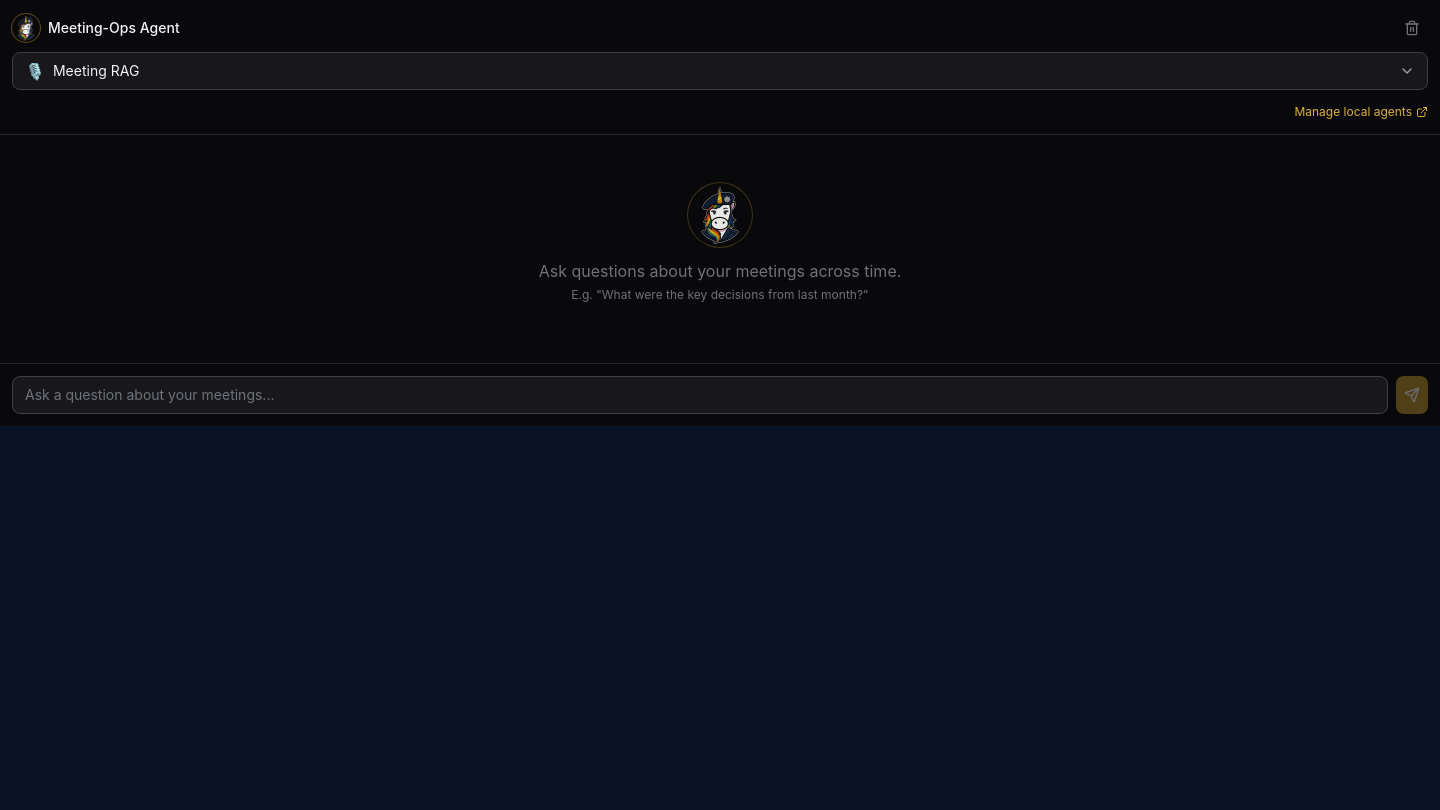
Test case: RAGChat › renders a confirmation card and applies the action inline
Type "Rename the session." into the field with placeholder "Ask a question about your meetings..." at (700, 395), box [12,376,1388,414]
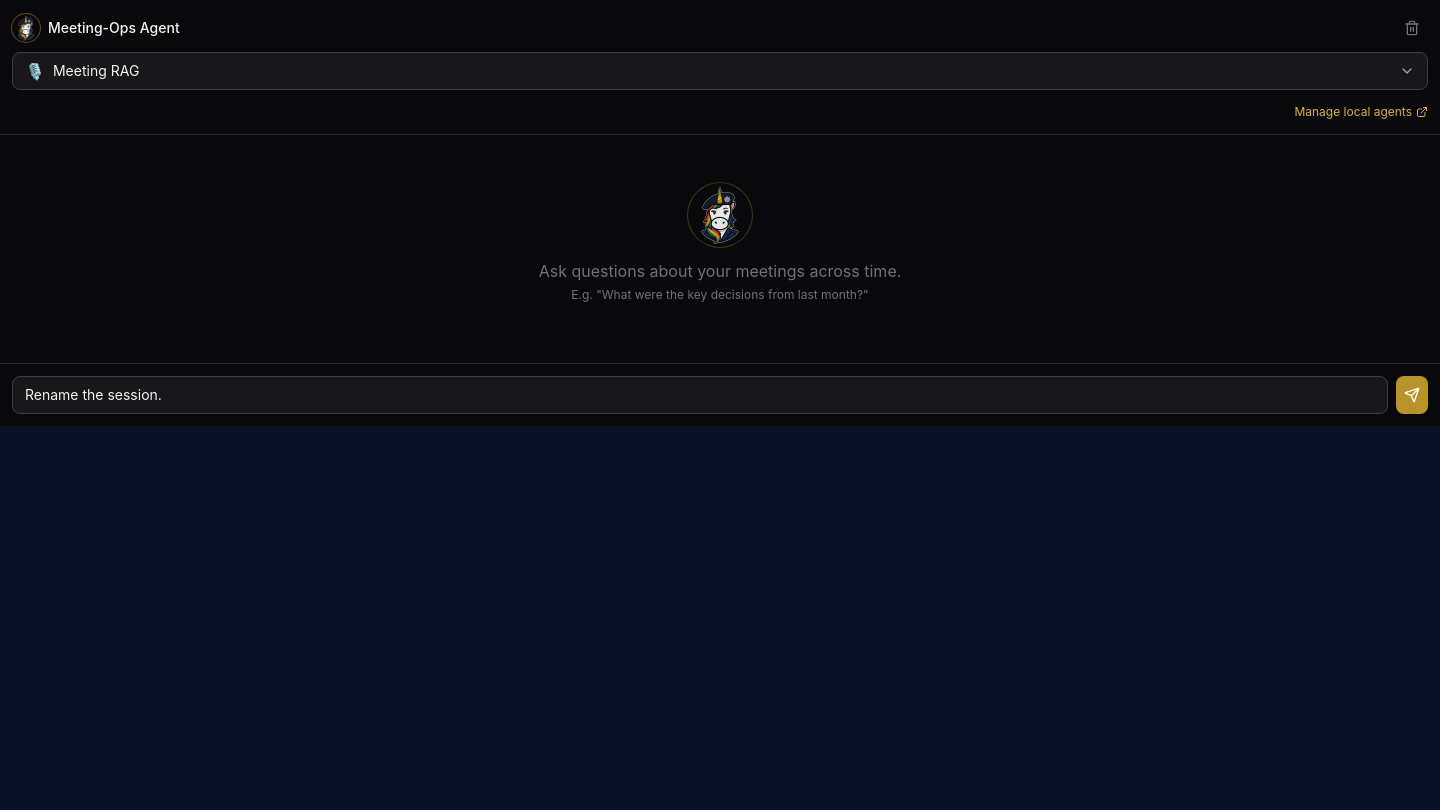
Press Enter in the field with placeholder "Ask a question about your meetings...", box [12,376,1388,414]
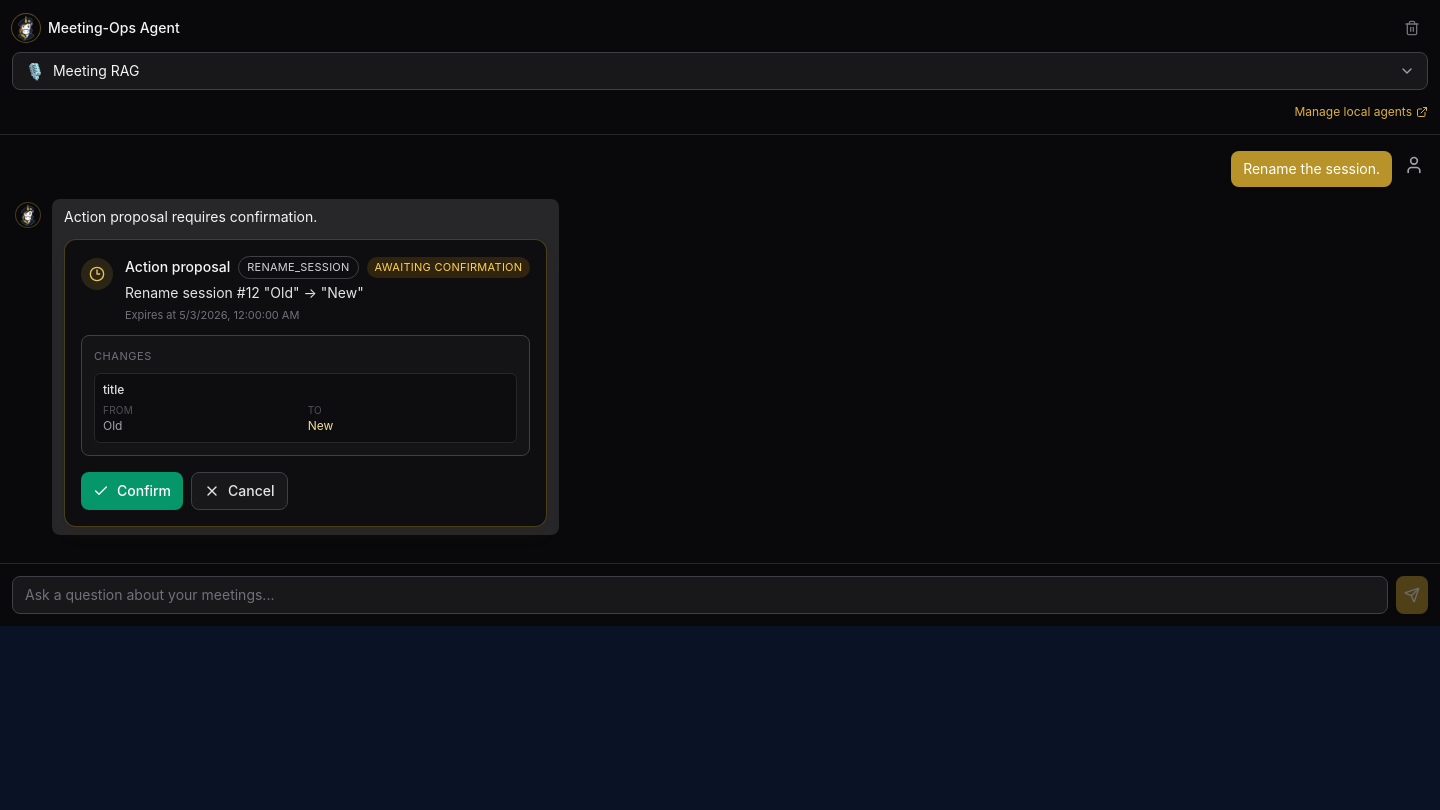
Expected: the text "Action proposal requires confirmation." is shown, [64,208,317,225]
Expected: the button "Confirm" is shown
Expected: the button "Cancel" is shown, [191,472,288,510]
Click the button "Confirm" at (132, 490), box [81,472,183,510]
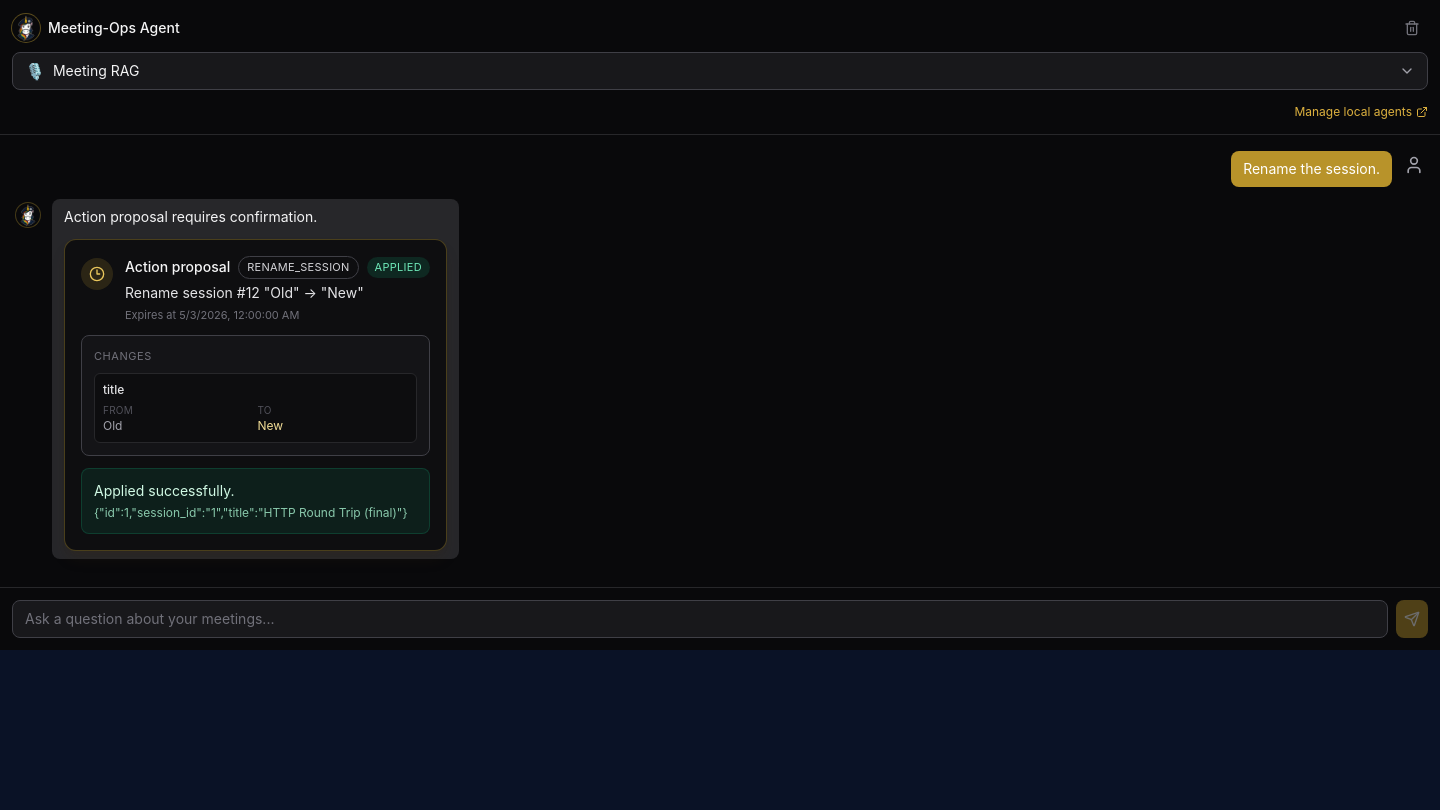
Expected: the text "Applied successfully" is shown, [94,482,234,498]
